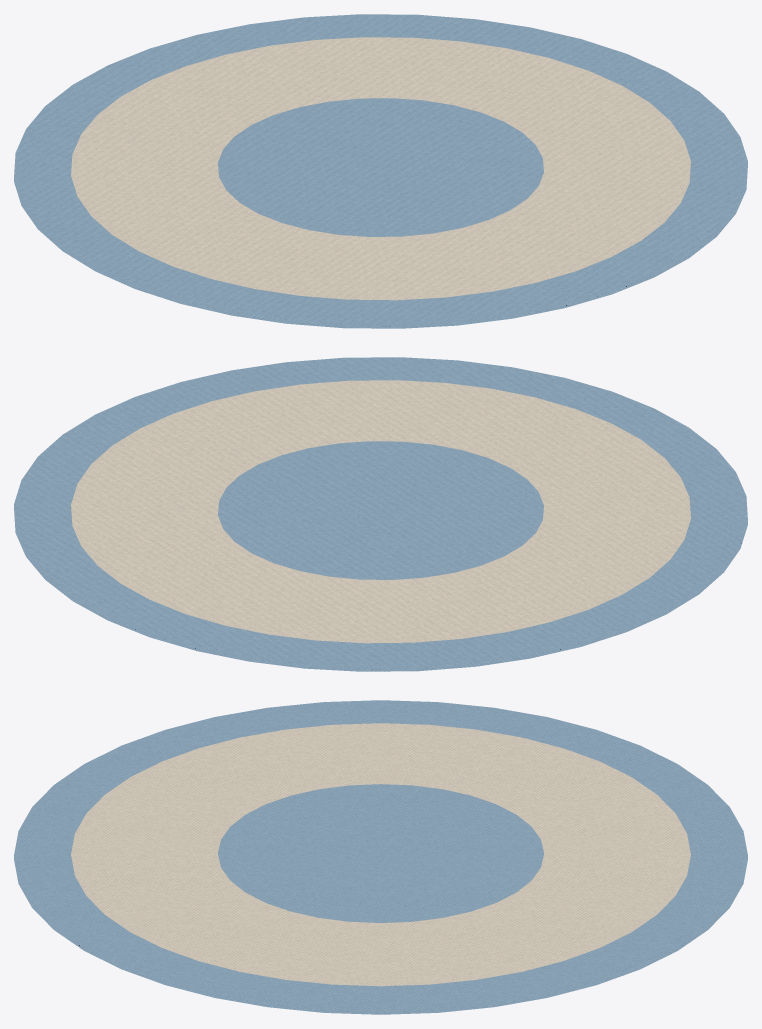
Rendered from prop_rug_round.glb.
The picture shows the model from 3 angles, top to bottom: view 1: azimuth 30°, elevation 25°; view 2: azimuth 150°, elevation 25°; view 3: azimuth 270°, elevation 25°; orthographic projection.
Visible parts, largest first — view 1: prop_rug_round; view 2: prop_rug_round; view 3: prop_rug_round.
Part boxes in pixels (x1,y1,x2,y2): prop_rug_round: (14,14,747,328); prop_rug_round: (14,357,747,671); prop_rug_round: (14,700,747,1014).
Size of the model in its own units: 2.25 by 0.0225 by 2.25.
2 materials, 2 textured.
